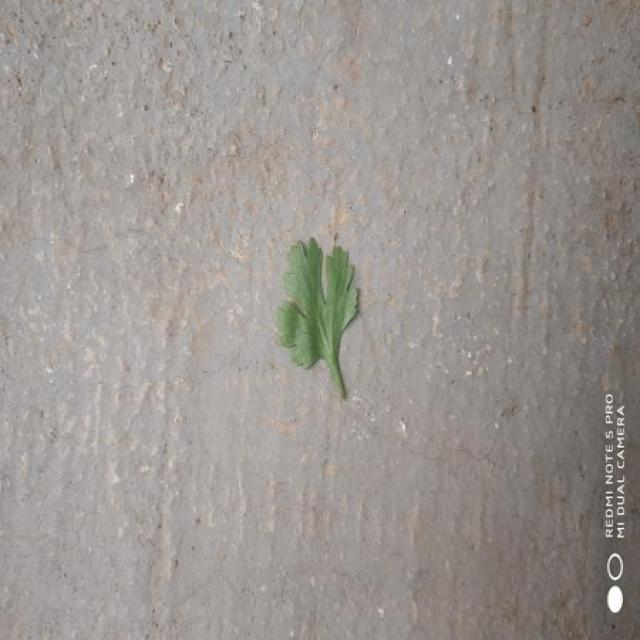coriender: (277, 239, 358, 398)
